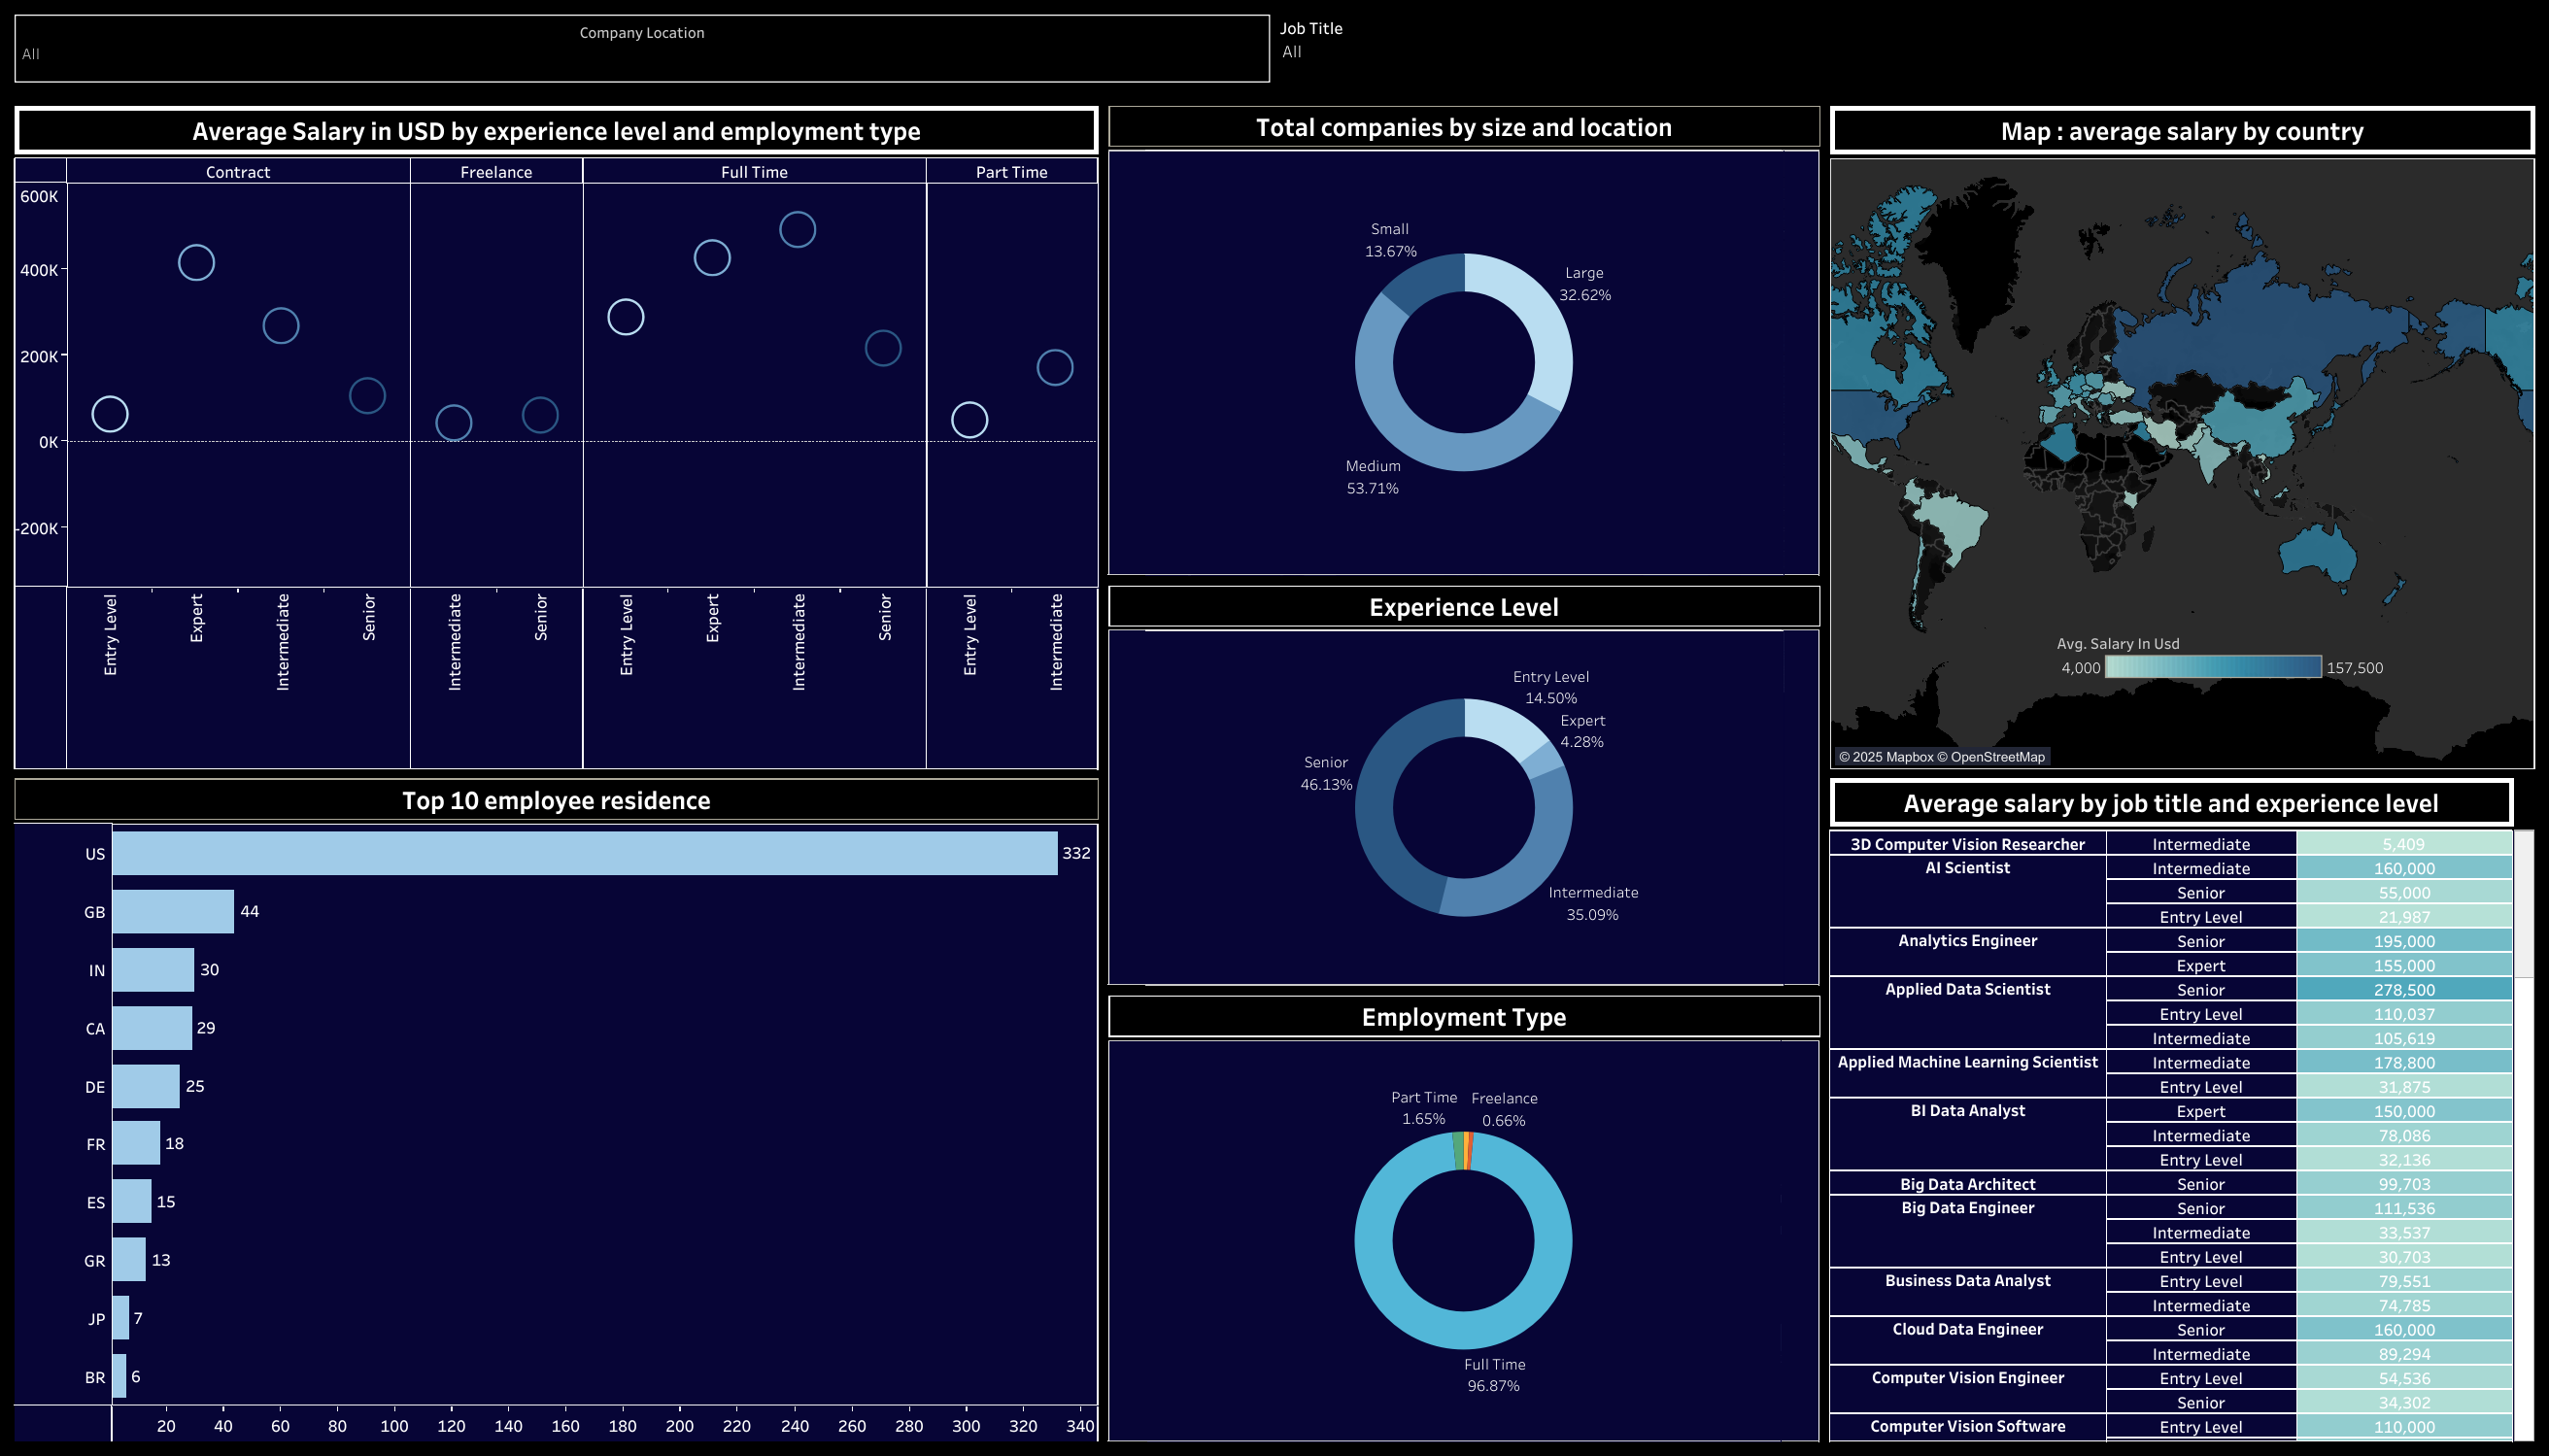

What the dashboard file says about the page in this screenshot:
{"tool":"tableau","page":{"name":"Dashboard 2","canvas":[1000,1000],"units":"permille","ordinal":0},"visuals":[{"type":"filter","title":"Experience Level","param":"[federated.0qbnazv1refmeq19kx25l0nqbgan].[none:company_location:nk]","box":[3.8,6.7,496.2,57.5]},{"type":"filter","title":"Average Salary in USD by experience level and employment type","param":"[federated.0qbnazv1refmeq19kx25l0nqbgan].[none:job_title:nk]","box":[500,6.7,496.2,62.5]},{"type":"worksheet","title":"Average Salary in USD by experience level and employment type","mark":"Shape","rows":["salary"],"cols":["employment_type","experience_level"],"box":[3.8,69.2,429.1,462.1]},{"type":"worksheet","title":"Total companies by size and location","mark":"Pie","rows":["Calculation_332140504518791169","Calculation_332140504518791169"],"box":[432.9,69.2,282.9,329.2]},{"type":"worksheet","title":"Map : average salary by country","mark":"Automatic","box":[715.7,69.2,280.5,462.1]},{"type":"worksheet","title":"Experience Level","mark":"Pie","rows":["Calculation_332140504518791169","Calculation_332140504518791169"],"box":[432.9,398.3,282.9,281.7]},{"type":"legend","title":"Map : average salary by country","param":"[federated.0qbnazv1refmeq19kx25l0nqbgan].[avg:salary_in_usd:qk]","box":[806.7,430,130.5,73.3]},{"type":"worksheet","title":"Top 10 employee residence","mark":"Automatic","rows":["employee_residence"],"cols":["employee_residence"],"box":[3.8,531.2,429.1,462.1]},{"type":"worksheet","title":"Average salary by job title and experience level","mark":"Square","rows":["job_title","experience_level"],"box":[715.7,531.2,280.5,462.1]},{"type":"worksheet","title":"Employment Type","mark":"Pie","rows":["Calculation_332140504518791169","Calculation_332140504518791169"],"box":[432.9,680,282.9,313.3]}]}

Visuals, with their boxes on the dashboard's canvas, which has no fixed pixel size, in thousandths of its width and height (x1, y1, x2, y2). These are canvas units, not pixel positions in the 2549x1456 screenshot, which may show the page scaled, cropped or inside an application window:
"Experience Level" filter: <box>4,7,500,64</box>
"Average Salary in USD by experience level and employment type" filter: <box>500,7,996,69</box>
"Average Salary in USD by experience level and employment type" worksheet (Shape marks): <box>4,69,433,531</box>
"Total companies by size and location" worksheet (Pie marks): <box>433,69,716,398</box>
"Map : average salary by country" worksheet: <box>716,69,996,531</box>
"Experience Level" worksheet (Pie marks): <box>433,398,716,680</box>
"Map : average salary by country" legend: <box>807,430,937,503</box>
"Top 10 employee residence" worksheet: <box>4,531,433,993</box>
"Average salary by job title and experience level" worksheet (Square marks): <box>716,531,996,993</box>
"Employment Type" worksheet (Pie marks): <box>433,680,716,993</box>
